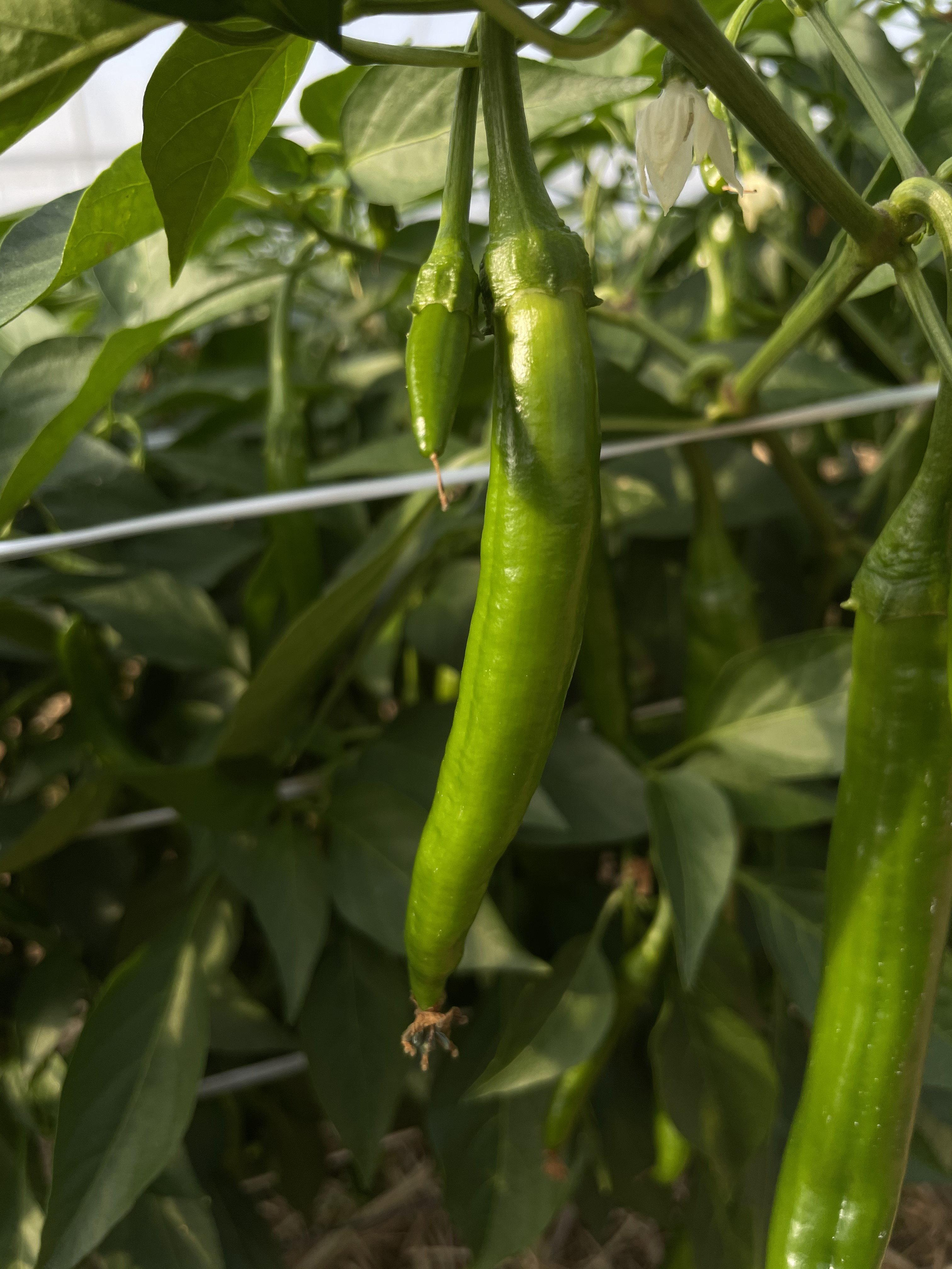Buah Cabai Sehat: (403, 193, 610, 1061), (762, 533, 952, 1269)
